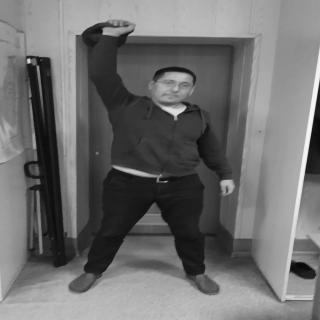kettlebell: (83, 23, 136, 49)
